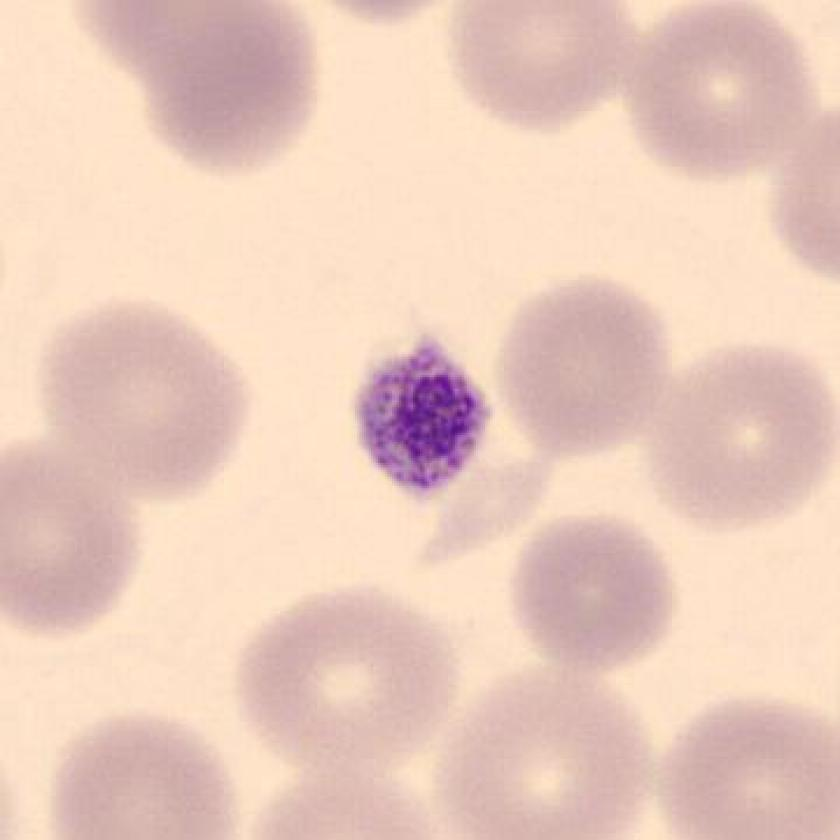platelets: (342, 325, 503, 512)
